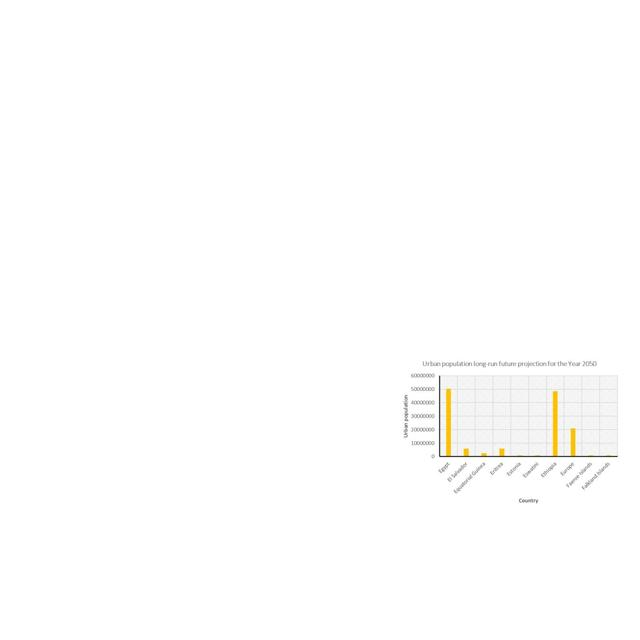Graph: (398, 355, 622, 505)
